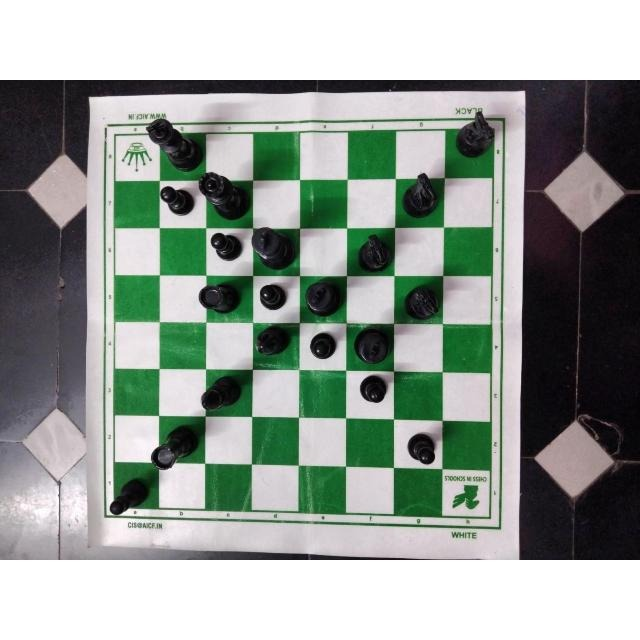black-bishop: (200, 370, 244, 414), (252, 323, 291, 357)
black-king: (145, 115, 205, 173), (250, 223, 298, 270), (303, 278, 343, 318), (352, 326, 392, 366)
black-knight: (454, 110, 496, 162), (399, 172, 440, 221), (354, 231, 394, 273), (403, 284, 443, 320)
black-pawn: (107, 477, 155, 517), (404, 430, 440, 467), (160, 183, 196, 218), (209, 230, 245, 262), (306, 331, 340, 363), (356, 373, 390, 405), (257, 280, 289, 311)
black-queen: (197, 171, 252, 221)
black-rook: (148, 425, 200, 471), (197, 281, 241, 314)
